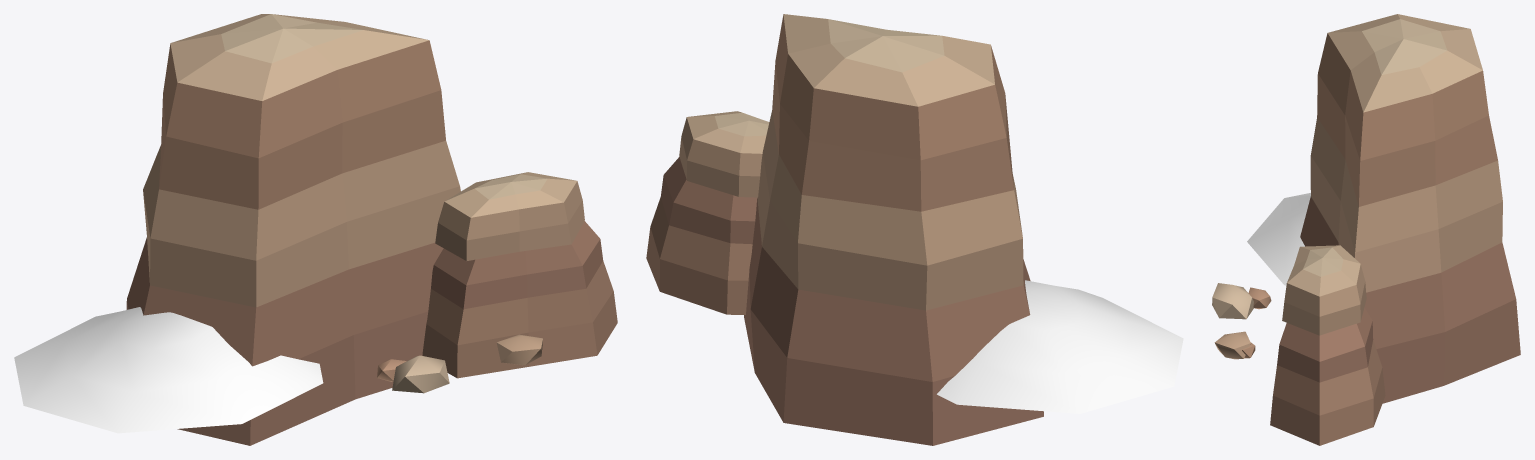
Rendered from roca_canon_c_ligero.glb.
The picture shows the model from 3 angles, left to right: view 1: azimuth 30°, elevation 25°; view 2: azimuth 150°, elevation 25°; view 3: azimuth 270°, elevation 25°; orthographic projection. The views are drawn at different scales.
Visible parts, largest first — view 1: roca_canon_c, roca_canon_c_arena; view 2: roca_canon_c, roca_canon_c_arena; view 3: roca_canon_c, roca_canon_c_arena.
Part boxes in pixels (x1=…): roca_canon_c: x1=126, y1=14, x2=617, y2=445; roca_canon_c_arena: x1=14, y1=307, x2=323, y2=433; roca_canon_c: x1=646, y1=14, x2=1043, y2=445; roca_canon_c_arena: x1=937, y1=280, x2=1183, y2=413; roca_canon_c: x1=1212, y1=14, x2=1520, y2=445; roca_canon_c_arena: x1=1247, y1=193, x2=1310, y2=285.
Size of the model in its own units: 6.2 by 3.66 by 3.39.
